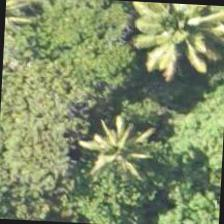Kelapa_Sawit: (76, 88, 170, 183), (76, 133, 172, 223), (139, 1, 223, 82), (130, 1, 223, 57)
